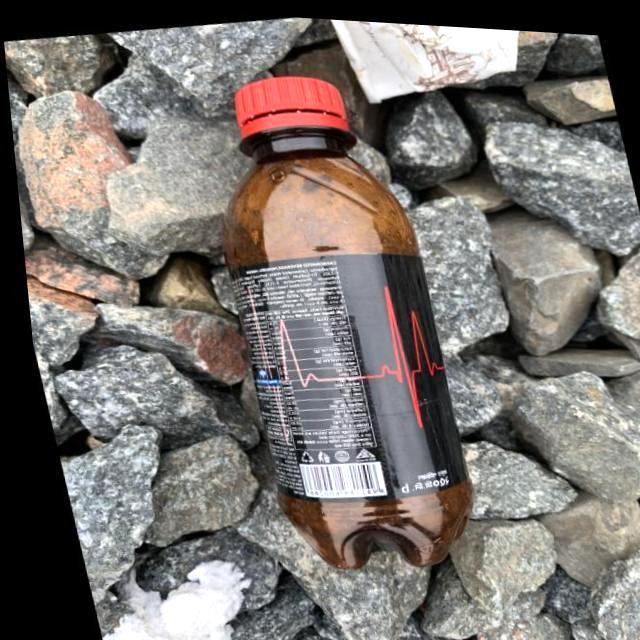bottle: (93, 40, 531, 640)
